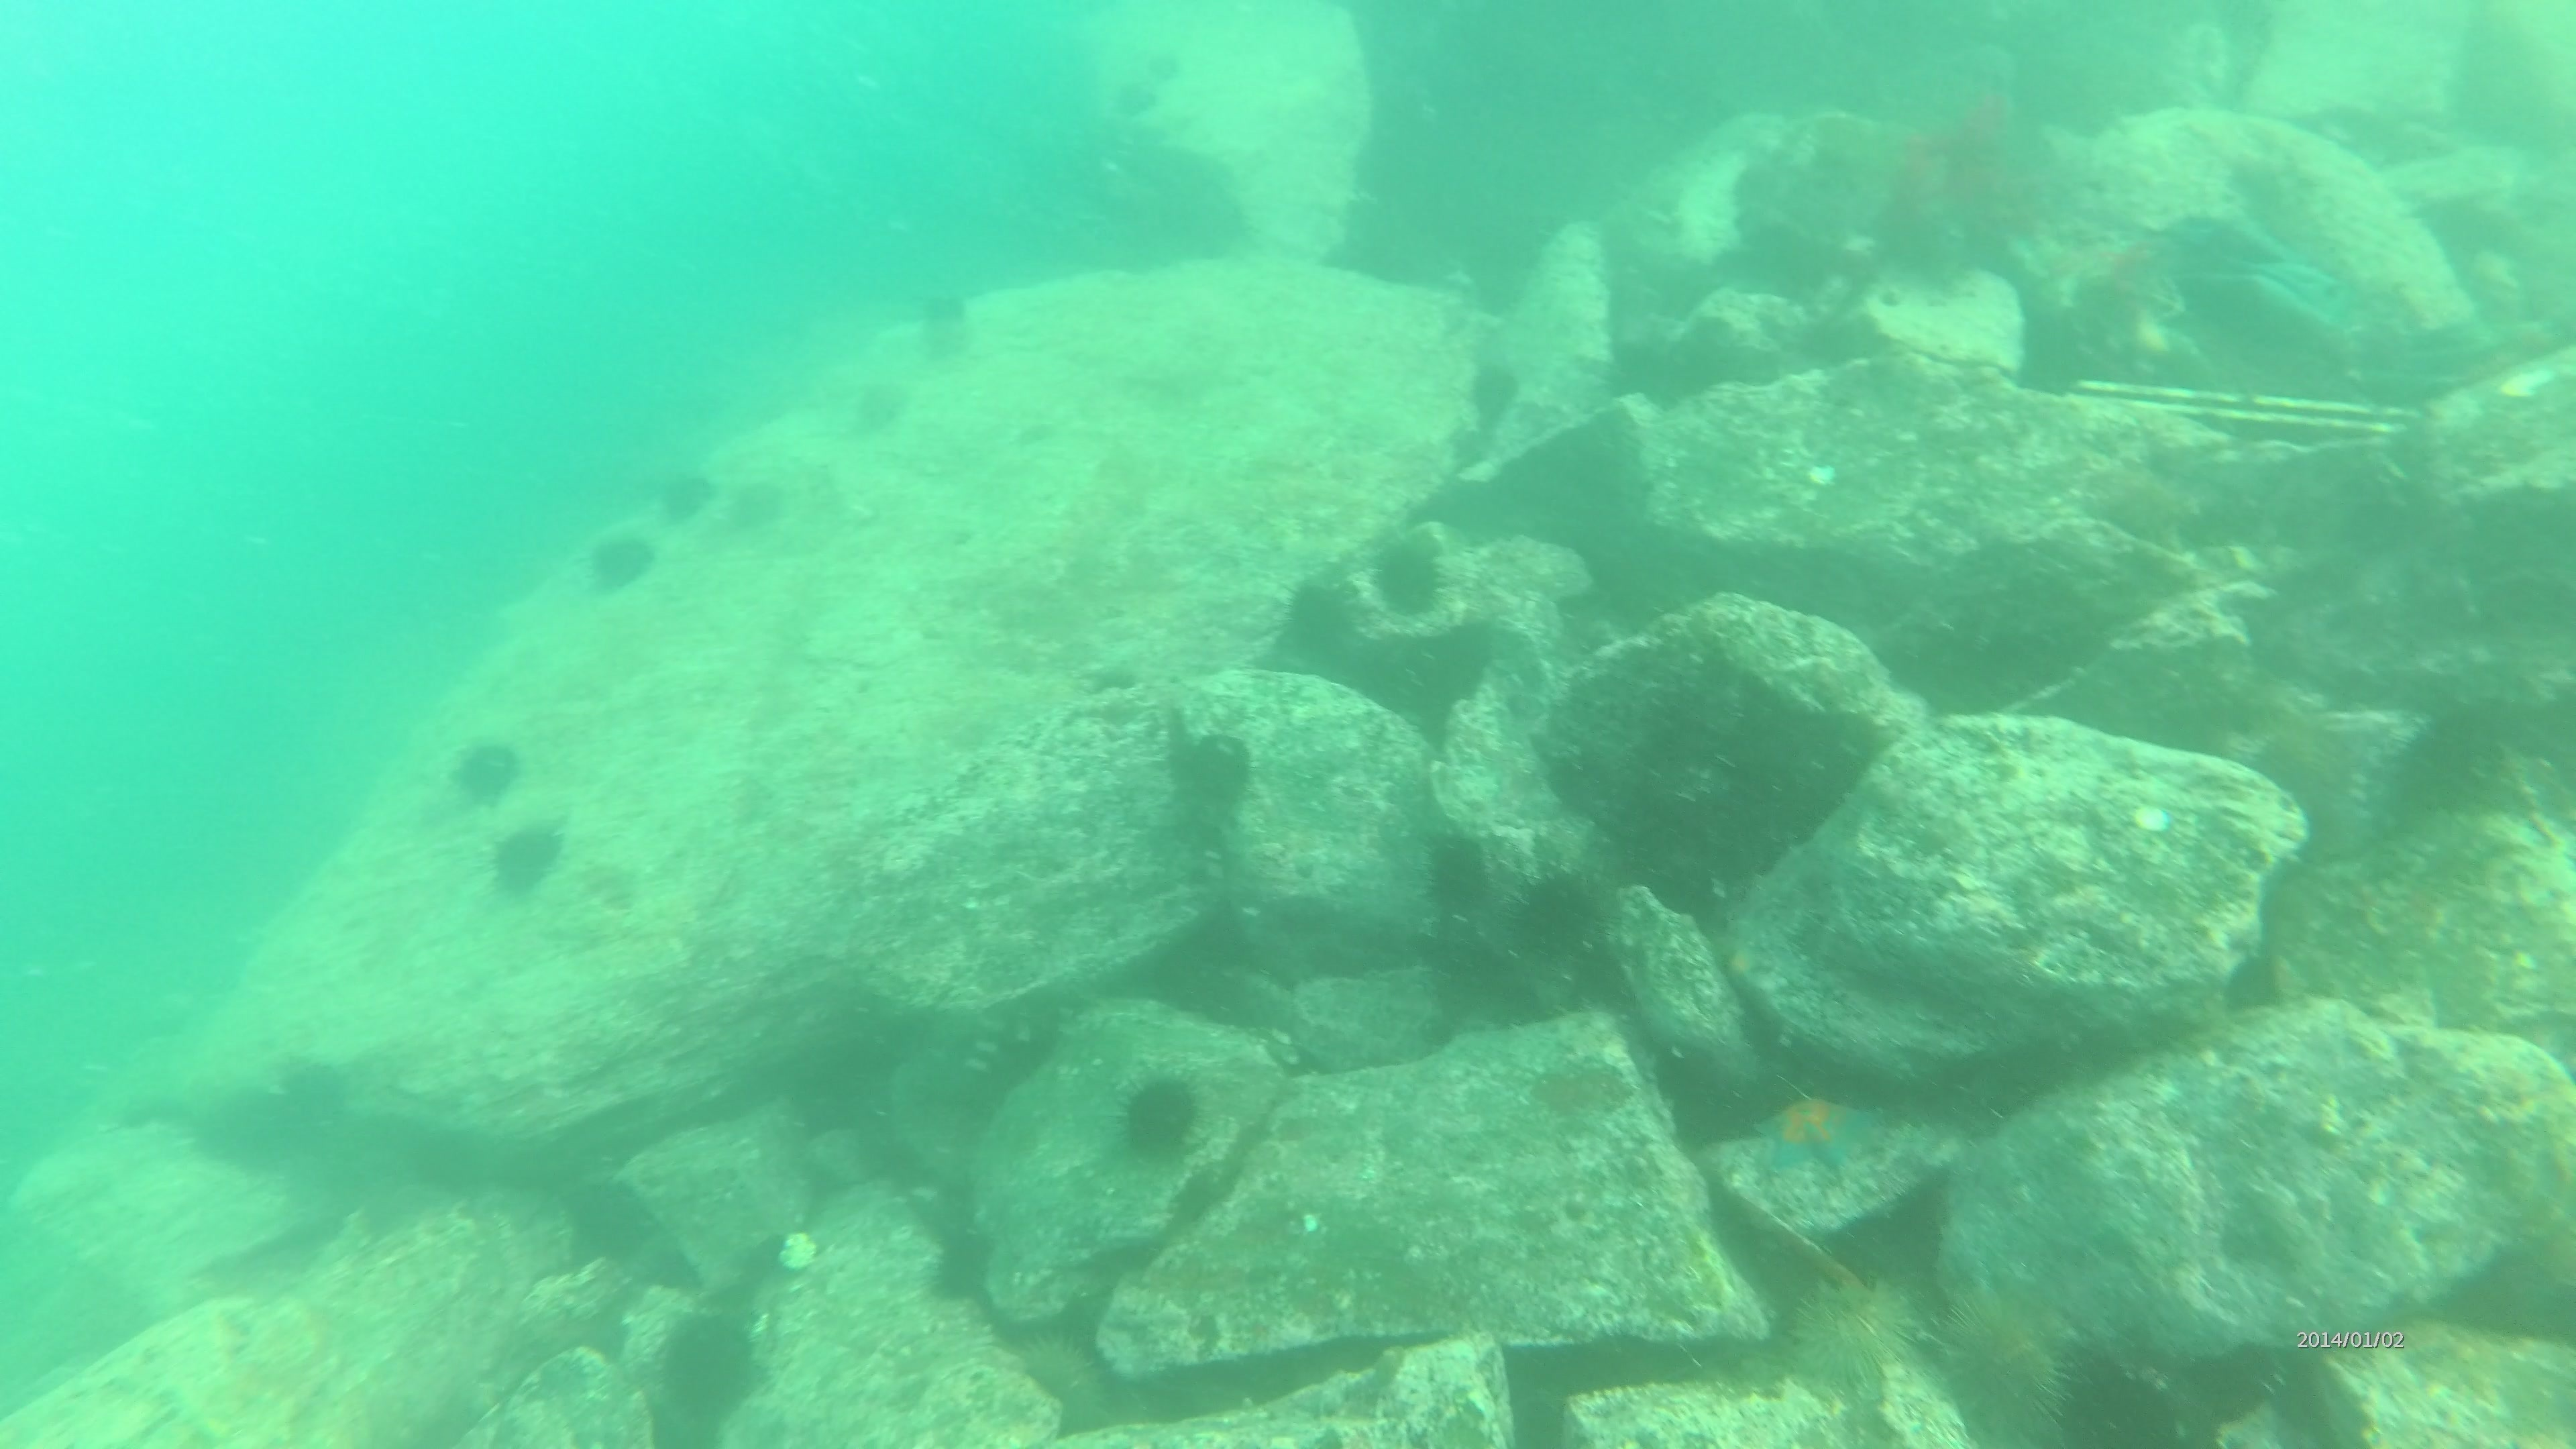echinus: (1923, 1277, 2082, 1438), (2385, 694, 2526, 824), (1785, 1265, 1927, 1394), (651, 1304, 768, 1426), (2049, 1350, 2189, 1449), (1502, 862, 1614, 975), (1108, 1065, 1210, 1169), (1161, 724, 1261, 824), (1272, 566, 1369, 669), (1364, 525, 1456, 625), (1414, 824, 1502, 924), (481, 816, 570, 904), (444, 731, 527, 810), (580, 524, 660, 600), (1458, 350, 1527, 433), (839, 372, 913, 442), (722, 471, 793, 541), (649, 460, 718, 529), (906, 322, 977, 370), (1116, 80, 1159, 115), (922, 294, 962, 322), (1150, 50, 1184, 76)
holothurian: (939, 985, 1099, 1088)
starfish: (1743, 1079, 1886, 1185)
